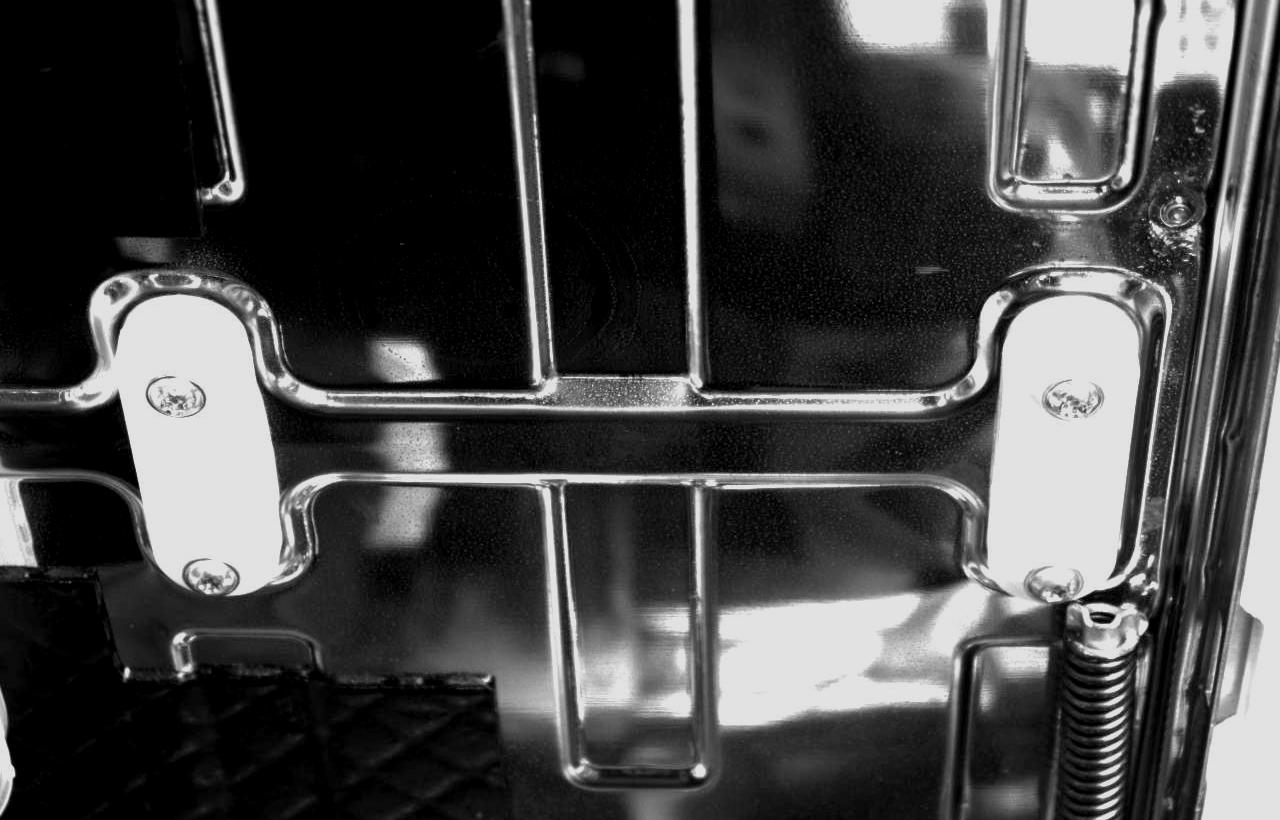vida-ok: (134, 346, 221, 423), (1036, 367, 1124, 440), (170, 547, 251, 612), (1020, 555, 1095, 613)
